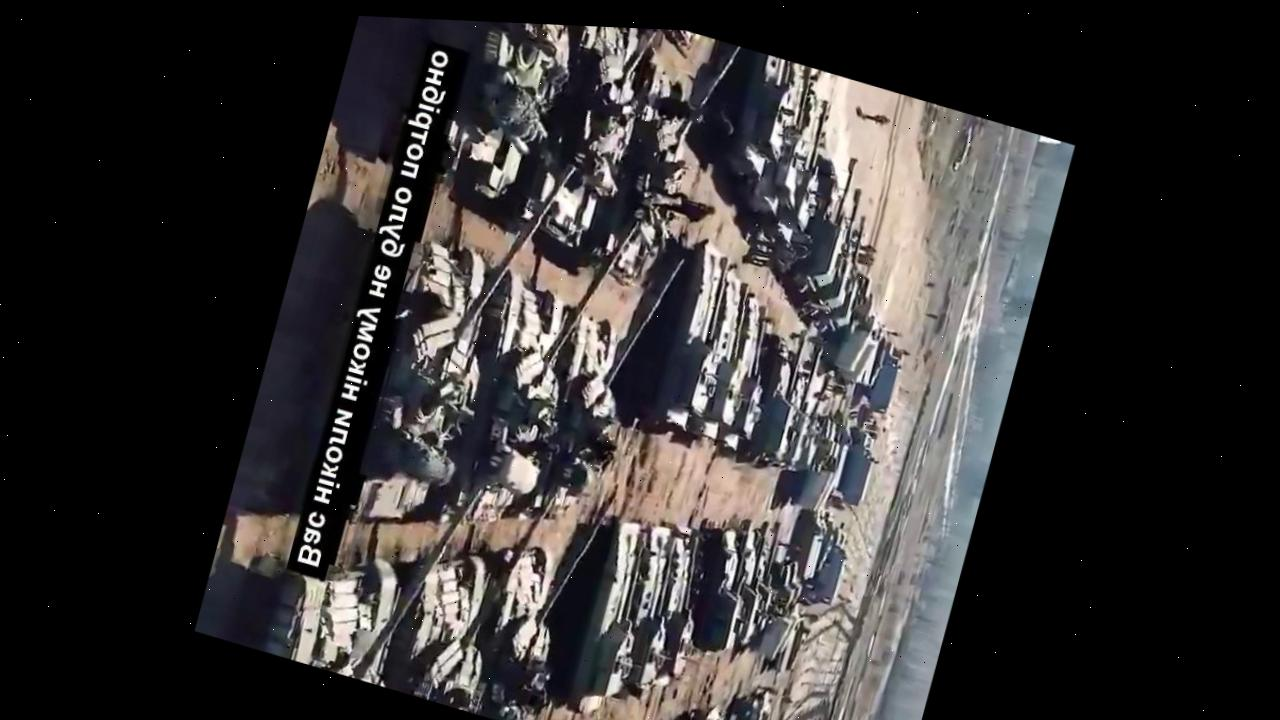person: (655, 185, 719, 229), (797, 605, 825, 630), (860, 107, 893, 128), (824, 378, 852, 399), (774, 533, 799, 552), (883, 323, 906, 343), (855, 237, 879, 255), (754, 680, 780, 696), (776, 691, 798, 709), (920, 307, 941, 323), (920, 275, 938, 291), (897, 344, 916, 359)
rszo: (822, 263, 891, 377), (778, 405, 848, 515), (747, 555, 808, 663), (829, 421, 888, 513), (806, 516, 857, 608)
sau: (629, 228, 754, 443), (546, 506, 668, 720), (680, 258, 778, 448), (703, 44, 819, 190), (610, 520, 699, 703), (739, 57, 831, 223), (755, 87, 845, 252), (732, 314, 823, 476), (782, 145, 870, 302), (645, 529, 724, 693), (675, 521, 767, 660)
tank: (276, 192, 507, 566), (418, 175, 642, 560), (509, 224, 688, 547), (369, 444, 564, 720), (579, 26, 752, 304), (355, 16, 577, 230), (500, 22, 692, 269), (467, 459, 622, 720), (227, 507, 429, 692), (673, 695, 728, 720), (646, 716, 703, 720)
truck: (714, 684, 770, 720)
